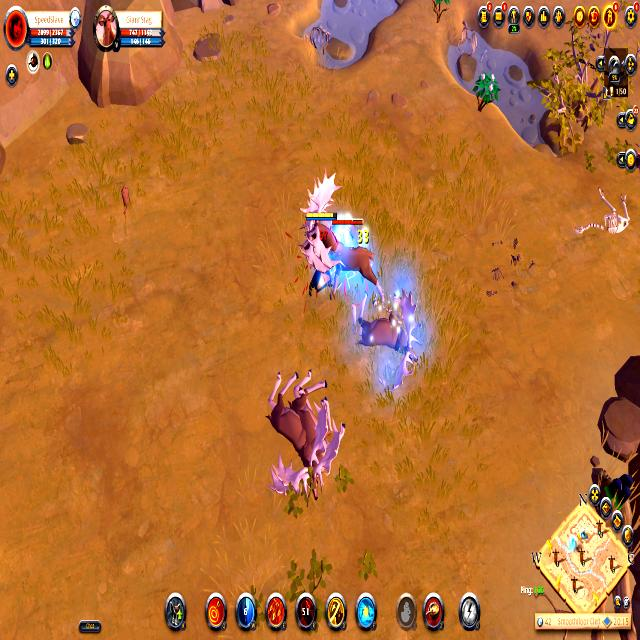hide: (473, 68, 498, 112)
mob: (264, 360, 348, 508), (346, 283, 426, 387)
ore: (299, 167, 389, 316)
player: (590, 455, 636, 521)
red: (302, 203, 338, 303)
